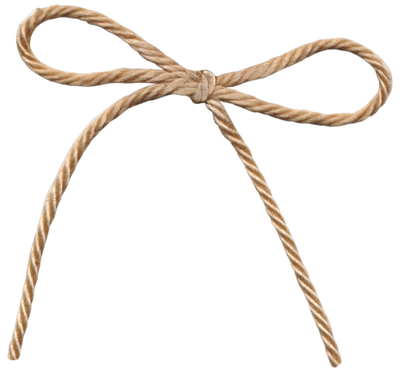9/可回收垃圾/绳子: (6, 4, 394, 369)
